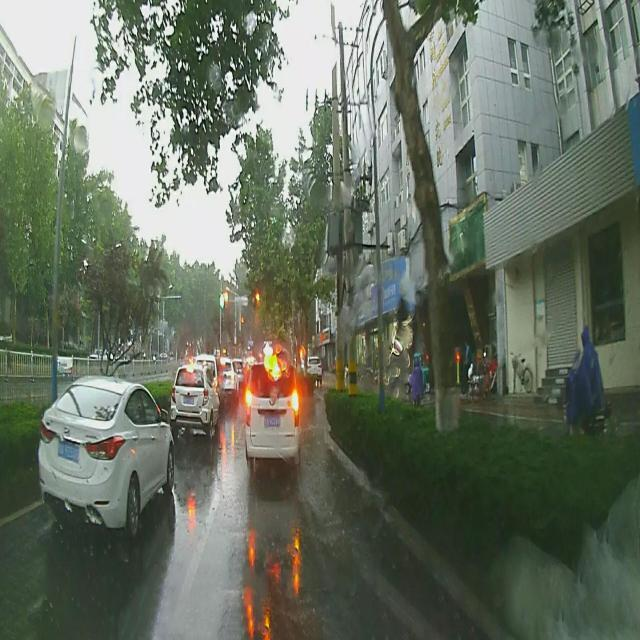car: (32, 372, 175, 534), (244, 362, 302, 470), (171, 367, 220, 438)
